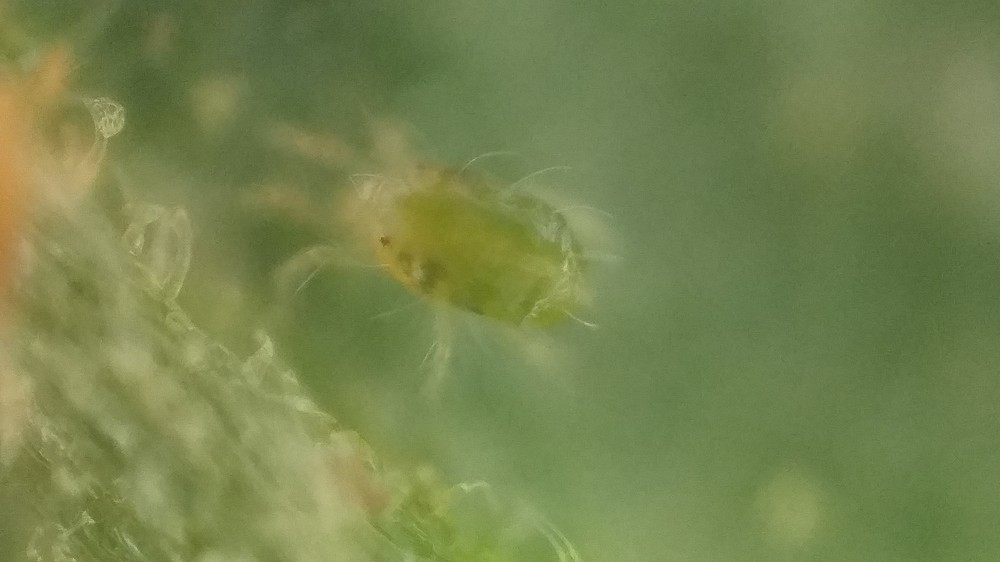Aracnido Rojo: (243, 97, 644, 403)
